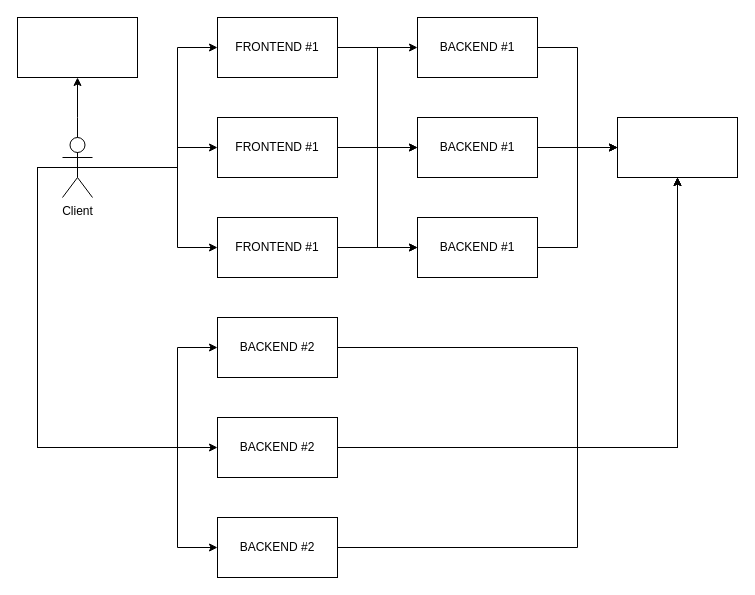
Some shapes in this 755 by 595 pixel diagram are drawn without their labels. Each missing label, with the centre of its shape:
"DNS" goes at point 77,47.
"PostgreSQL" goes at point 677,147.
